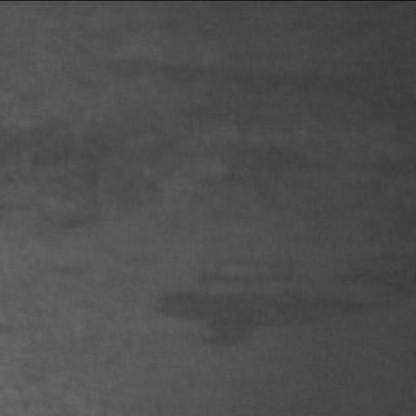inclusion: (83, 40, 354, 110), (147, 266, 376, 344), (214, 141, 337, 200), (18, 183, 120, 225)
